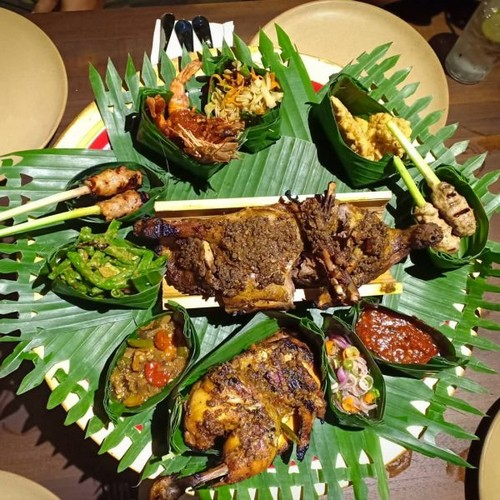bebek timbungan: (149, 203, 399, 298)
